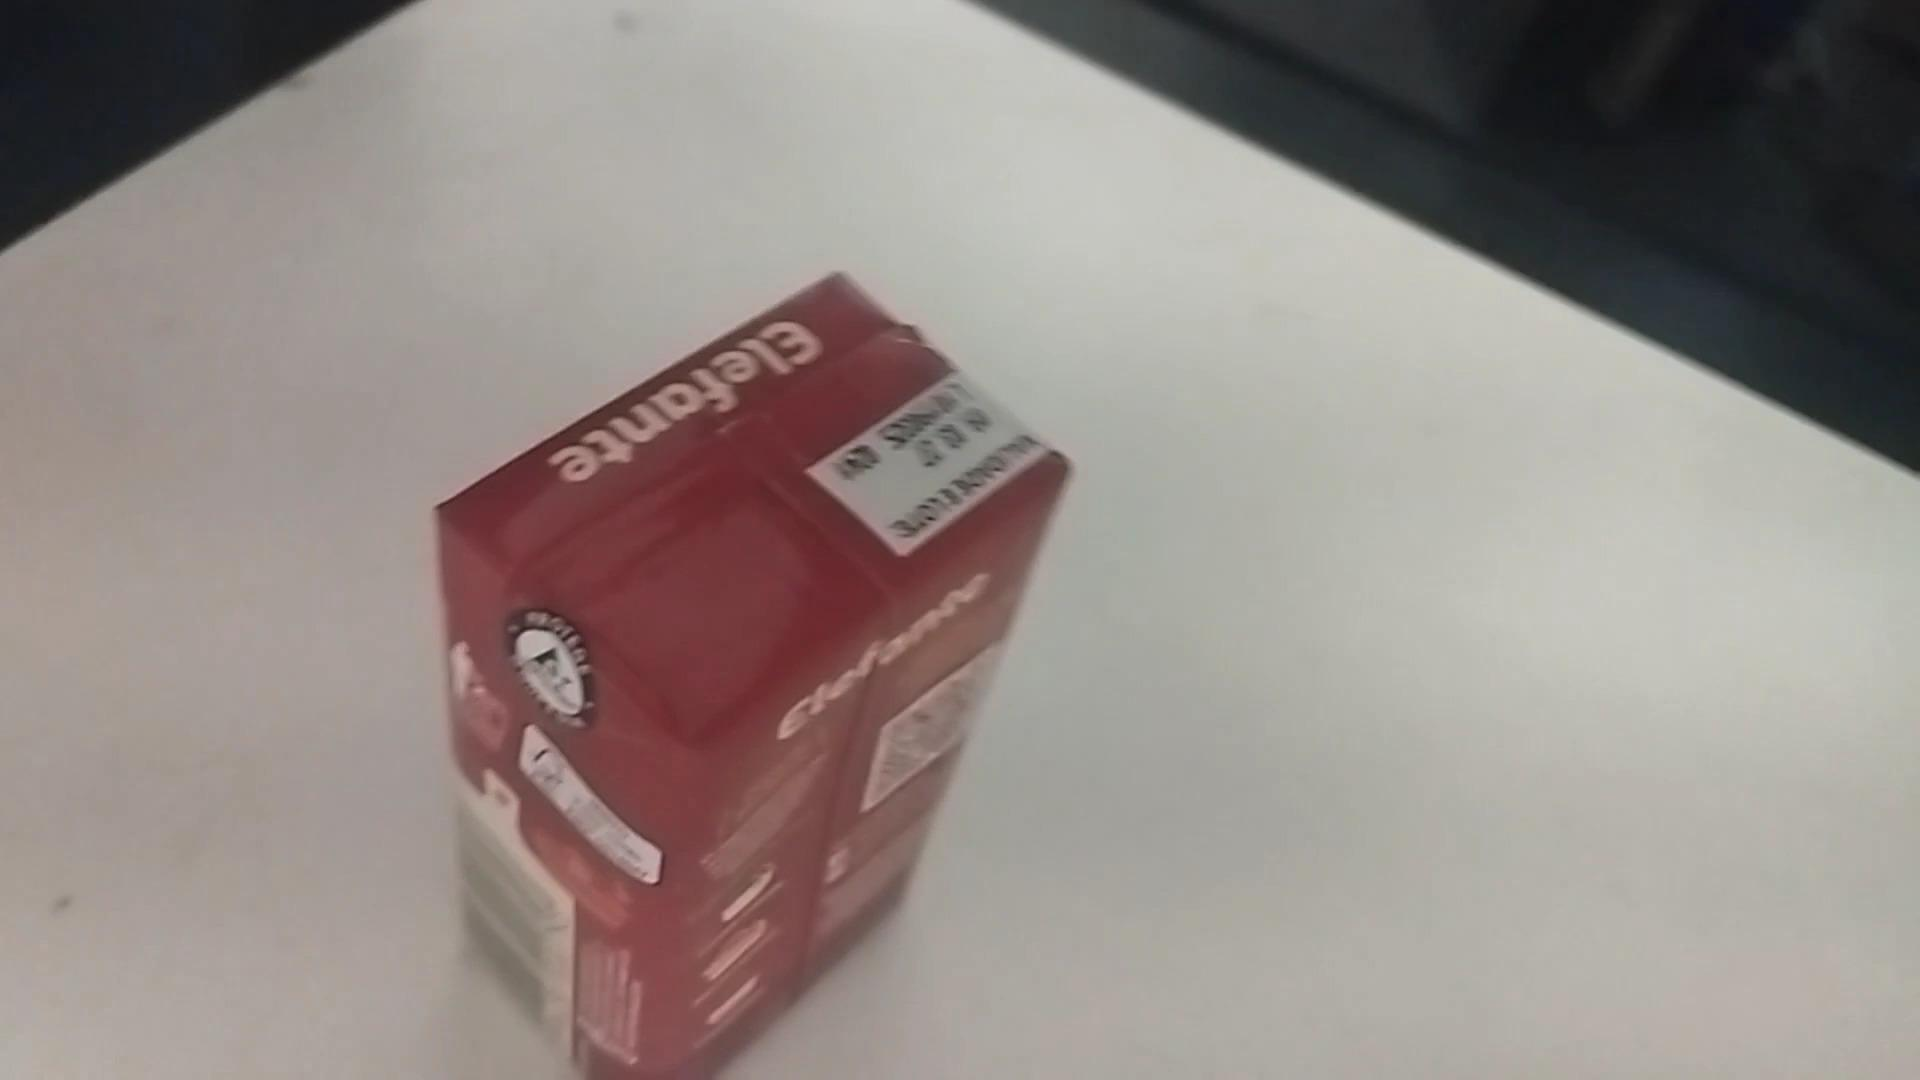tomate: (419, 261, 1083, 1065)
